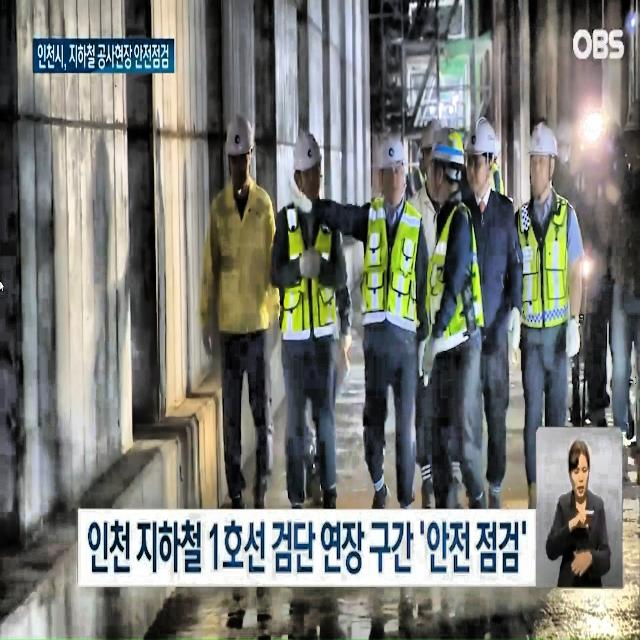safety_helmet: (426, 124, 468, 174), (363, 131, 404, 169), (518, 112, 562, 147), (218, 112, 258, 149), (289, 129, 319, 167), (465, 117, 499, 150), (422, 118, 448, 144)
safety_jacket: (272, 211, 349, 374), (430, 209, 492, 353), (519, 211, 584, 341), (362, 208, 413, 330)
